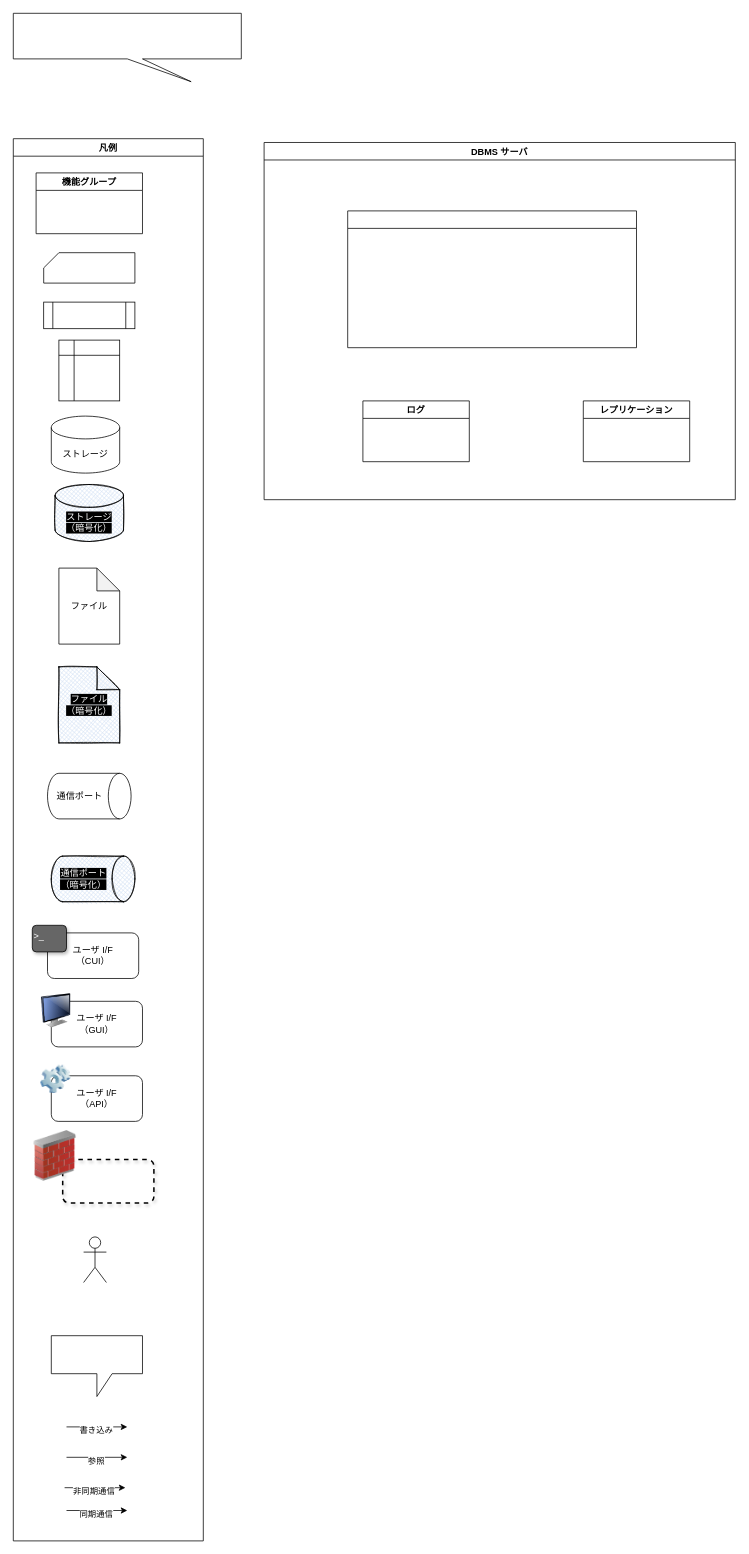
The diagram is 749 pixels wide and 1554 high, and some of its shapes have lost their labels. The shapes that lost their labels are listed below. From the top down, each one's centre as x and y in pixels, then its label:
At (127,47): "・物理境界ではなく論理境界で分けること ・概要／詳細で図を分ける ・主機能と補足機能がわかるように".
At (89,267): "設定パラメタ".
At (491,279): "データベースクラスタ".
At (89,315): "処理".
At (89,370): "メモリ".
At (109,1182): "アクセス制御".
At (94,1259): "Actor".
At (96,1365): "コメント".
